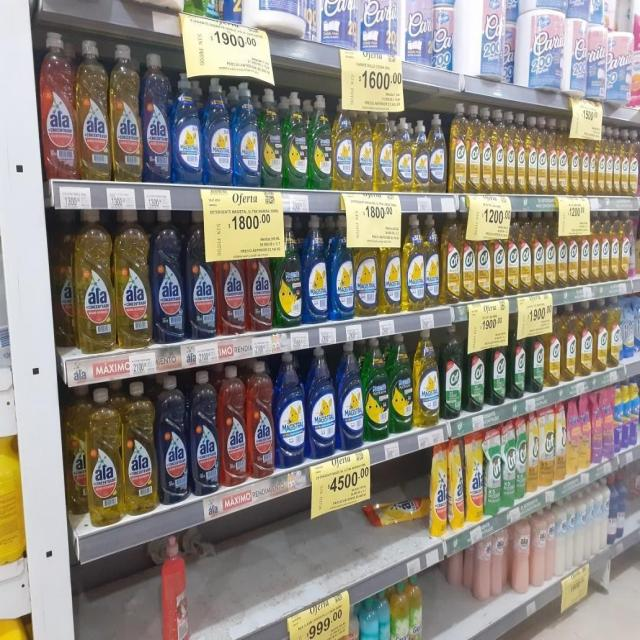ala_conc_amarillo: (75, 208, 114, 353), (115, 208, 151, 348), (87, 386, 122, 524), (78, 38, 110, 182), (124, 380, 156, 516), (111, 43, 141, 183), (65, 388, 87, 518)
ala_conc_azul: (153, 208, 185, 345), (158, 374, 189, 504), (186, 210, 216, 341), (142, 52, 171, 184), (190, 369, 219, 495)
ala_conc_rojo: (40, 32, 76, 181), (220, 364, 247, 486), (248, 359, 274, 479), (218, 232, 246, 336), (247, 234, 273, 332)
ala_crem_blanco: (556, 502, 566, 576), (575, 496, 585, 566), (566, 499, 574, 572)
ala_crem_rosado: (511, 518, 530, 594), (473, 534, 491, 602), (531, 508, 546, 588), (492, 528, 508, 599), (546, 506, 555, 582)
ala_sachet_amarillo: (430, 442, 448, 536), (466, 432, 483, 522), (448, 438, 464, 530)
cif_conc_bot_amarilla: (442, 211, 461, 304), (449, 102, 466, 194), (461, 216, 475, 302), (476, 220, 491, 300), (562, 303, 577, 382), (467, 104, 480, 193), (491, 220, 506, 297), (578, 300, 593, 376), (546, 308, 560, 387), (506, 214, 519, 295), (480, 106, 492, 193), (520, 211, 532, 293), (594, 298, 607, 373), (532, 211, 544, 292), (493, 109, 504, 194), (545, 211, 556, 291), (526, 115, 537, 194), (609, 297, 621, 368), (505, 109, 515, 194), (516, 113, 526, 195), (557, 120, 568, 194), (538, 116, 548, 195), (547, 118, 557, 195), (569, 126, 580, 195), (620, 210, 631, 279), (568, 219, 579, 287), (579, 217, 590, 285), (557, 217, 567, 289), (629, 128, 639, 196), (590, 128, 600, 195), (580, 129, 590, 195), (610, 210, 619, 281), (600, 212, 609, 282), (590, 213, 599, 283), (596, 128, 605, 196), (620, 128, 628, 196), (605, 127, 613, 195), (628, 210, 636, 278), (613, 128, 620, 196)
cif_conc_botella_verde: (441, 324, 463, 419), (464, 327, 485, 412), (486, 326, 506, 405), (508, 318, 526, 400), (527, 316, 545, 393)
cif_conc_sachet_amarillo: (540, 406, 555, 488), (555, 402, 567, 482), (528, 412, 539, 494)
cif_conc_sachet_verde: (485, 426, 501, 516), (502, 420, 516, 509), (516, 416, 526, 502)
drive: (568, 399, 580, 477), (579, 394, 591, 471), (602, 388, 614, 461), (592, 390, 602, 465)
heroe: (359, 594, 379, 640), (379, 591, 391, 640)
magistral_con_amarillo: (414, 329, 439, 427), (355, 222, 378, 317), (402, 213, 423, 311), (380, 222, 401, 314), (332, 101, 353, 191), (354, 108, 373, 192), (374, 110, 393, 192), (424, 213, 440, 308), (429, 112, 447, 192), (394, 116, 412, 192), (412, 118, 428, 192), (202, 0, 219, 17)
magistral_con_azul: (275, 351, 305, 468), (172, 71, 202, 185), (306, 345, 336, 458), (204, 76, 232, 186), (337, 341, 363, 449), (233, 81, 259, 187), (303, 214, 328, 323), (330, 215, 353, 321)
